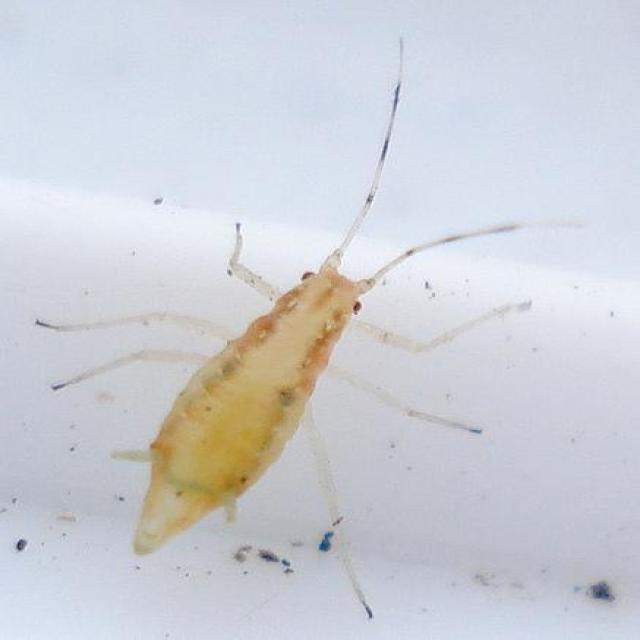Aphids: (59, 159, 498, 604)
